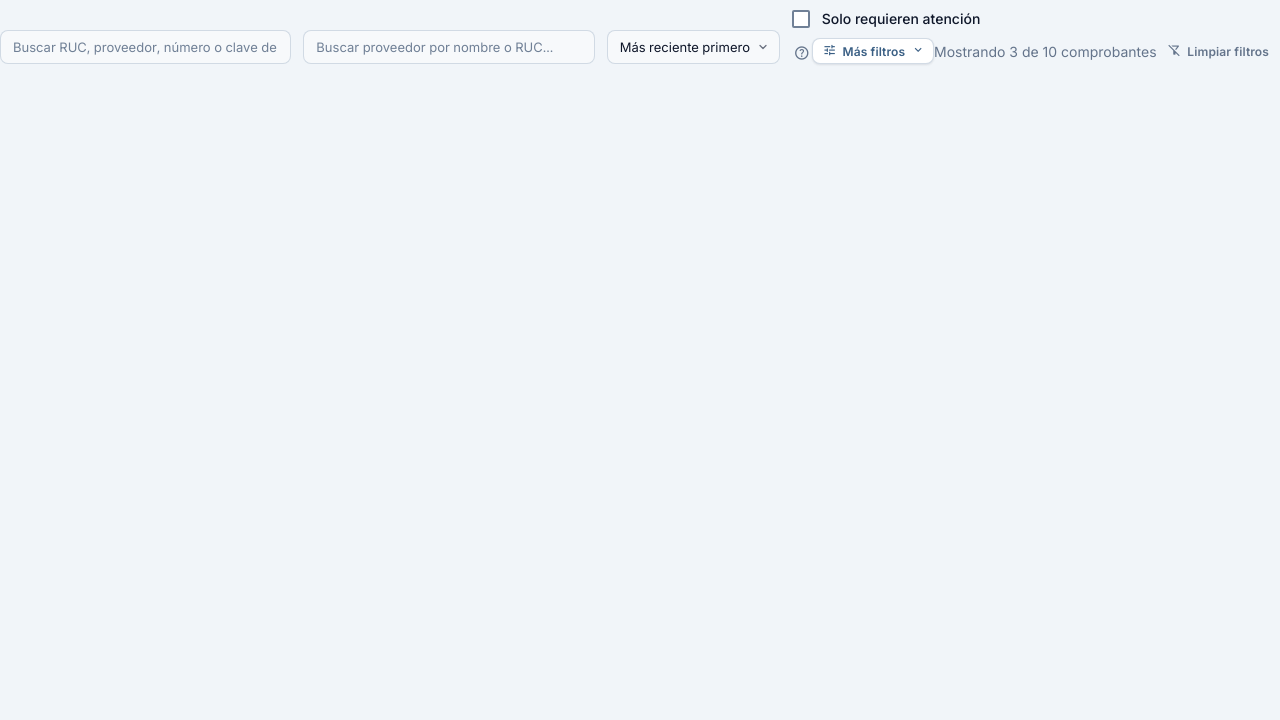
Test: PurchaseReceptionFilters (PURCHASES-RECEPTION-FILTERS-01) › la ayuda contextual explica el criterio sin ocupar una línea permanente
Click the button named "Solo requieren atención" at (802, 53), box [792, 43, 812, 63]
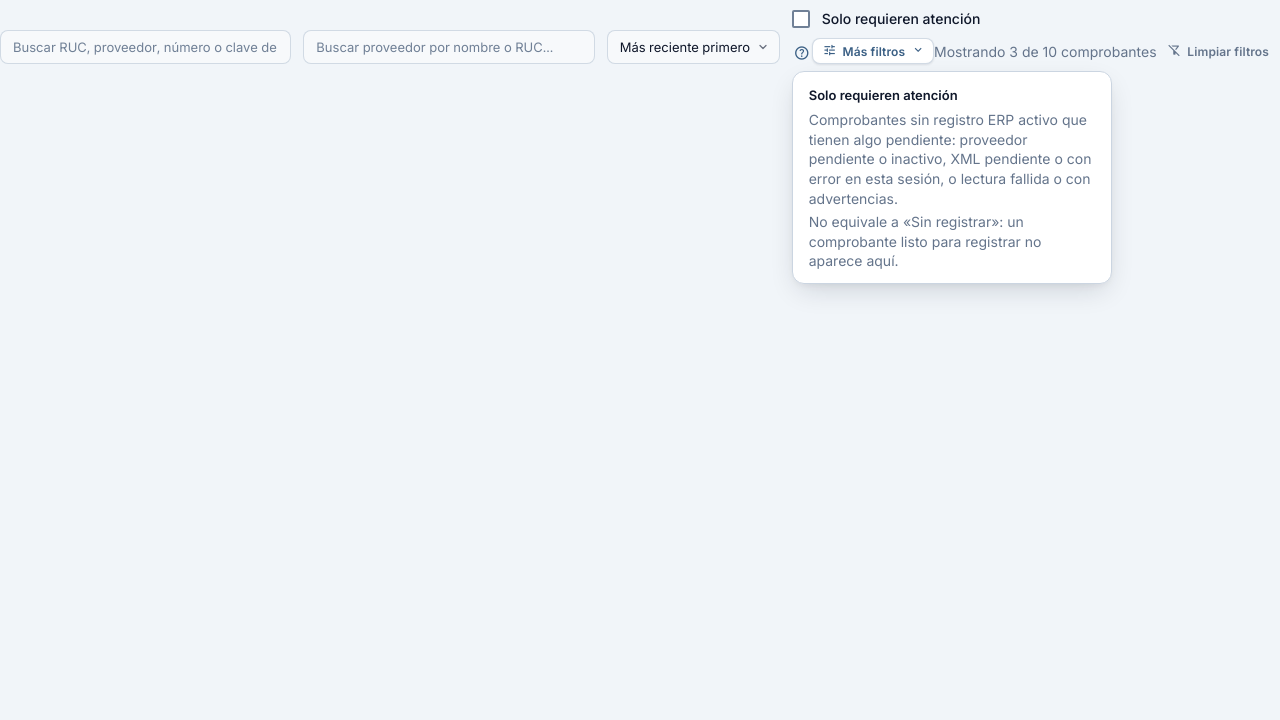
Expected: the text "proveedor pendiente o inactivo" is shown, [809, 111, 1091, 207]
